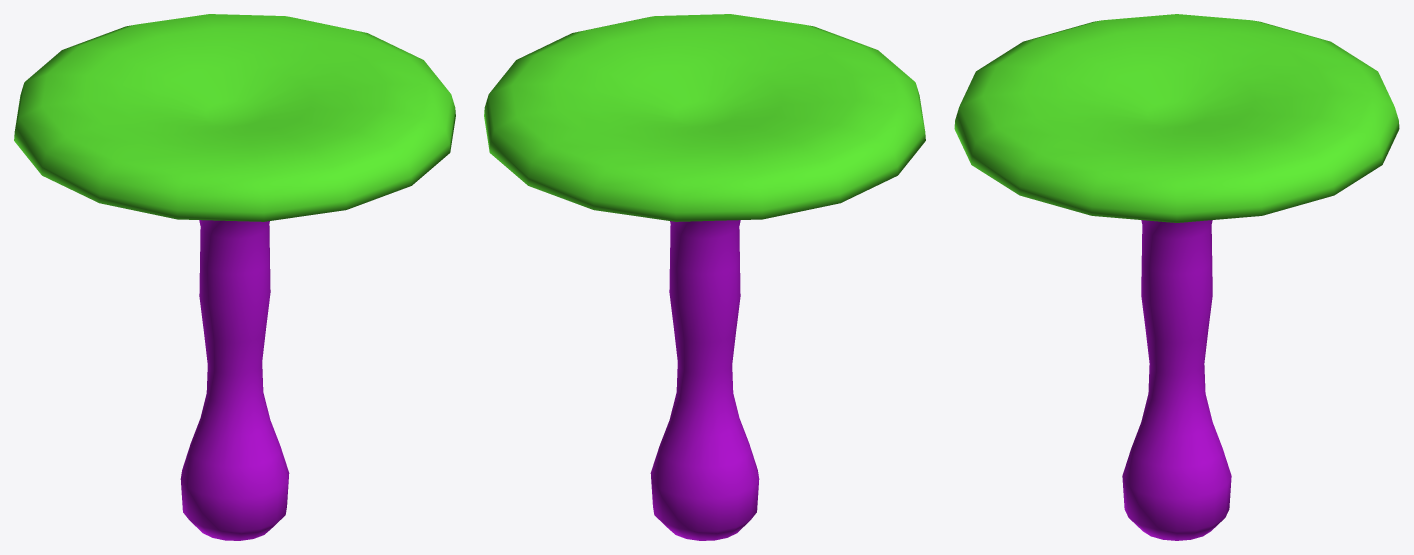
Rendered from OysterMushroom.glb.
3 renders of one model, left to right at view 1: azimuth 30°, elevation 25°; view 2: azimuth 150°, elevation 25°; view 3: azimuth 270°, elevation 25°, orthographic.
Visible parts, largest first — view 1: Plane; view 2: Plane; view 3: Plane.
Boxes of the visible parts, x1,y1,x2,y2 form: Plane: (14, 14, 455, 540); Plane: (484, 14, 925, 540); Plane: (954, 14, 1399, 540).
Size of the model in its own units: 3.3 by 3.55 by 3.3.
